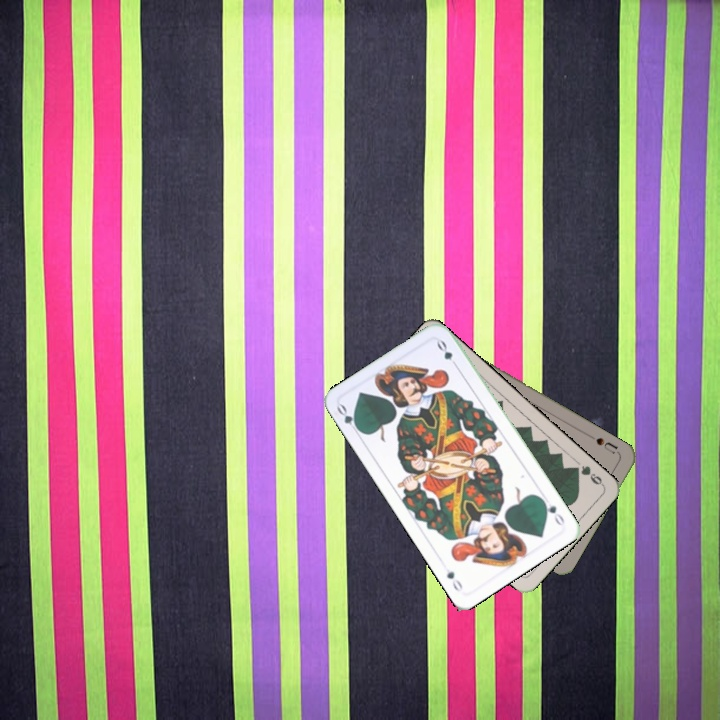G9: (568, 462, 606, 488)
GO: (332, 400, 364, 437), (537, 494, 567, 529)
SU: (586, 432, 623, 458)
